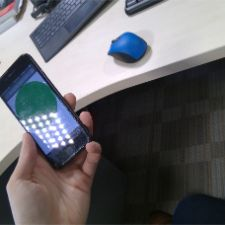focus: (8, 81, 60, 134)
